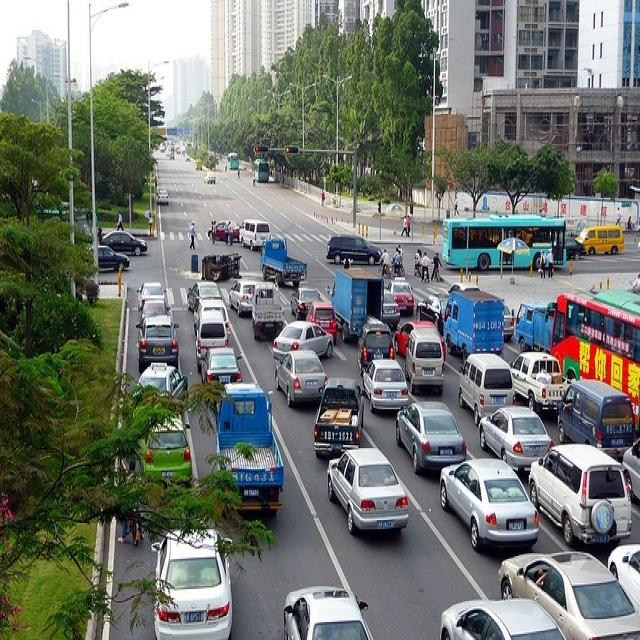Carro Azul Escuro: (210, 388, 290, 511), (442, 286, 507, 362), (328, 268, 388, 348), (514, 296, 552, 355), (262, 239, 308, 285)
Carro Branco: (529, 435, 636, 548), (153, 516, 240, 640), (604, 544, 640, 610)
Carro Cinza: (305, 366, 366, 455), (394, 400, 466, 474), (274, 349, 328, 407), (197, 344, 249, 387), (138, 318, 180, 365)
Carro Prata: (430, 446, 540, 562), (316, 436, 412, 543), (428, 587, 566, 640), (278, 586, 382, 640), (476, 400, 554, 465), (455, 355, 514, 418), (268, 318, 339, 365), (355, 359, 411, 407), (406, 332, 448, 393)
Carro Verde: (138, 407, 195, 495)
Onibus: (545, 288, 640, 410), (437, 216, 567, 274)
